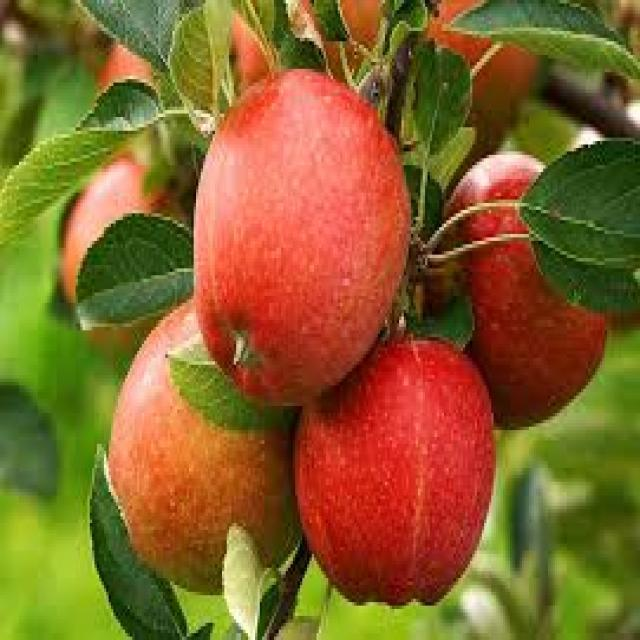Apple: (191, 65, 411, 406), (104, 296, 300, 596), (290, 334, 496, 606), (439, 148, 607, 427), (56, 151, 186, 358), (425, 0, 543, 162), (95, 7, 272, 100), (229, 10, 272, 93), (94, 38, 154, 93), (338, 0, 385, 48)
